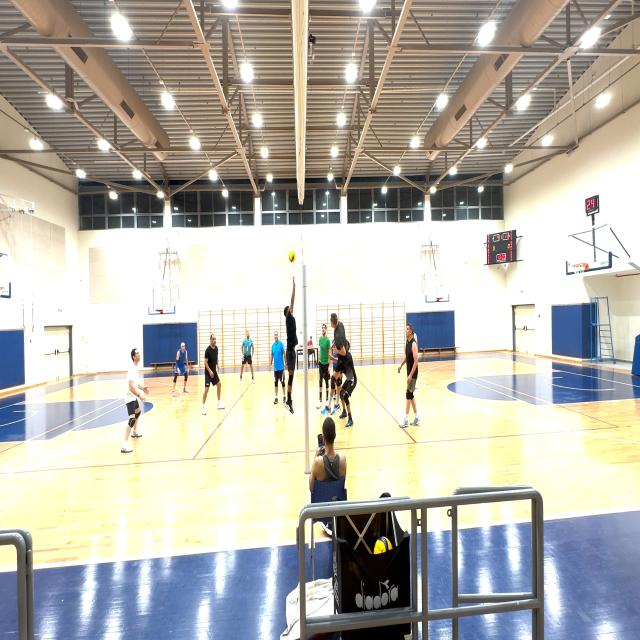volleyball: (373, 536, 392, 555), (288, 250, 296, 262)
